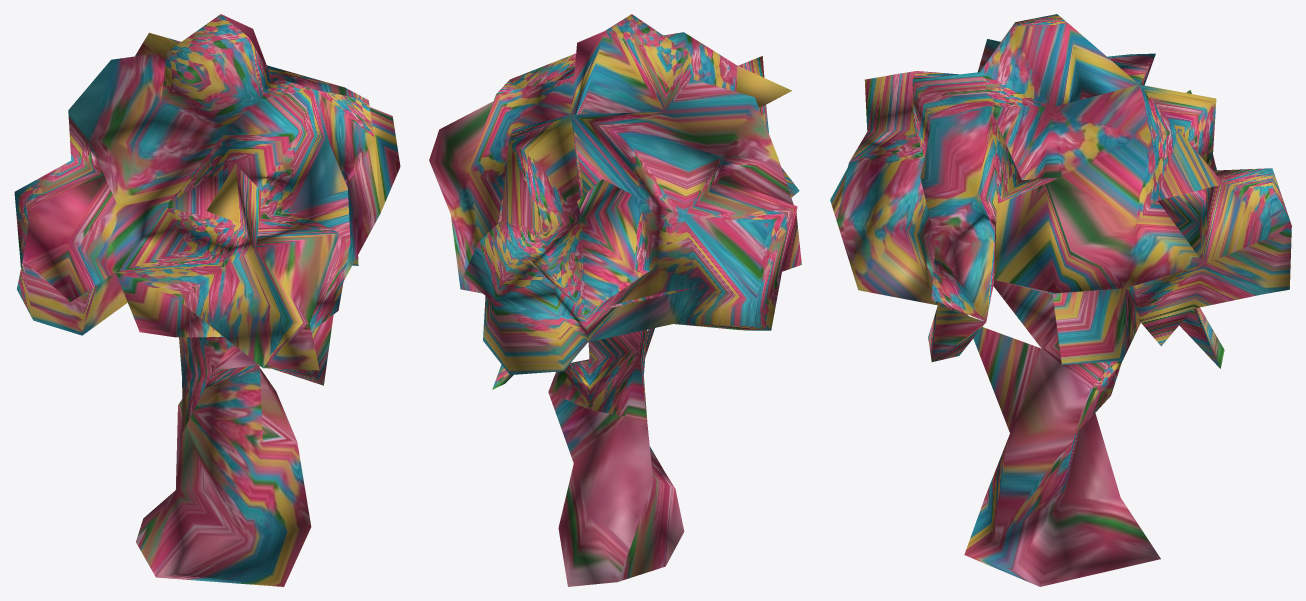
Rendered from candy-lollipop-tree-far-DYNJUbu4.glb.
3 views of the same model, side by side, from view 1: azimuth 30°, elevation 25°; view 2: azimuth 150°, elevation 25°; view 3: azimuth 270°, elevation 25° (orthographic). The views are drawn at different scales.
Parts seen in each view (by area): view 1: tripo_node_0df11bcf-d323-4516-a1d5-21886d765e4e; view 2: tripo_node_0df11bcf-d323-4516-a1d5-21886d765e4e; view 3: tripo_node_0df11bcf-d323-4516-a1d5-21886d765e4e.
Part boxes in pixels (box(x1,y1,x2,y2)): tripo_node_0df11bcf-d323-4516-a1d5-21886d765e4e: box(14, 14, 400, 586); tripo_node_0df11bcf-d323-4516-a1d5-21886d765e4e: box(429, 14, 801, 586); tripo_node_0df11bcf-d323-4516-a1d5-21886d765e4e: box(830, 14, 1291, 586).
Bounding box in the file's own units: 0.6882 × 0.9846 × 0.7592.
1 material, 1 textured.
